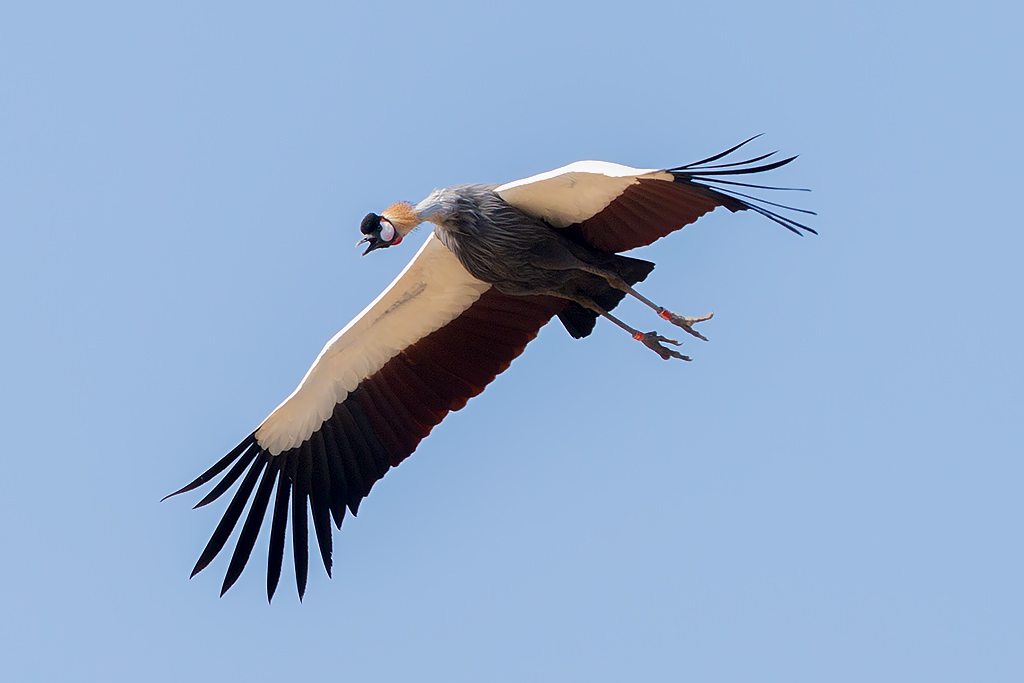bird: (157, 115, 819, 608)
